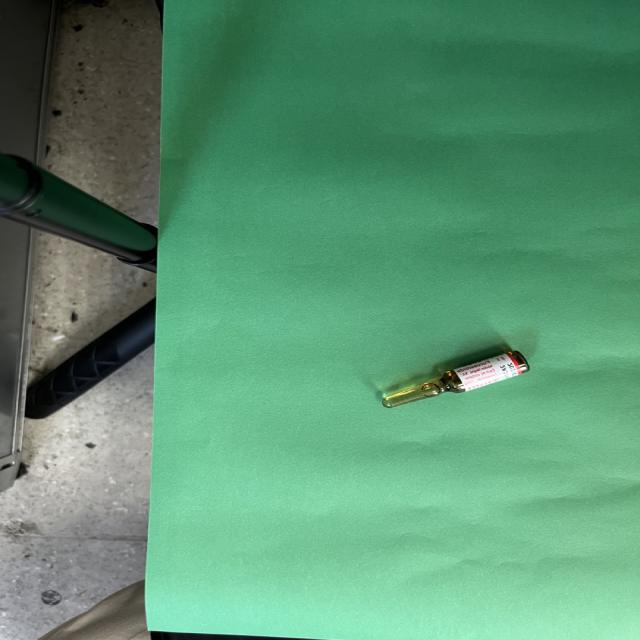Ampoules: (382, 350, 529, 408)
